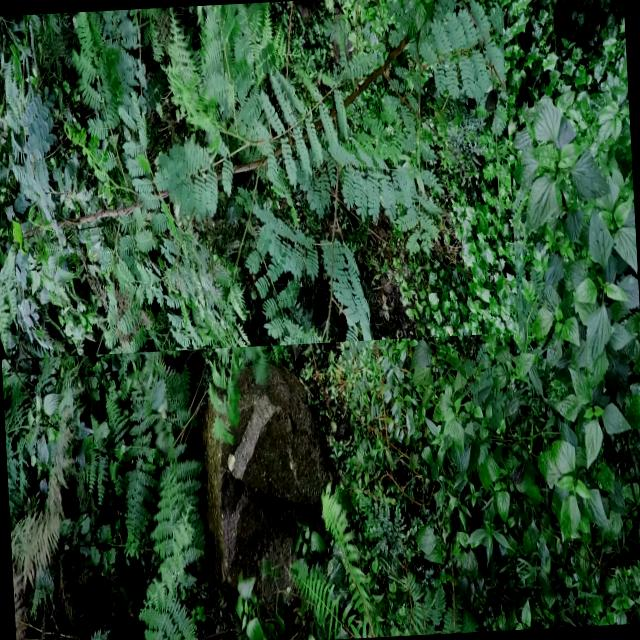Mysore-Thorn-Weed: (1, 0, 519, 358)
